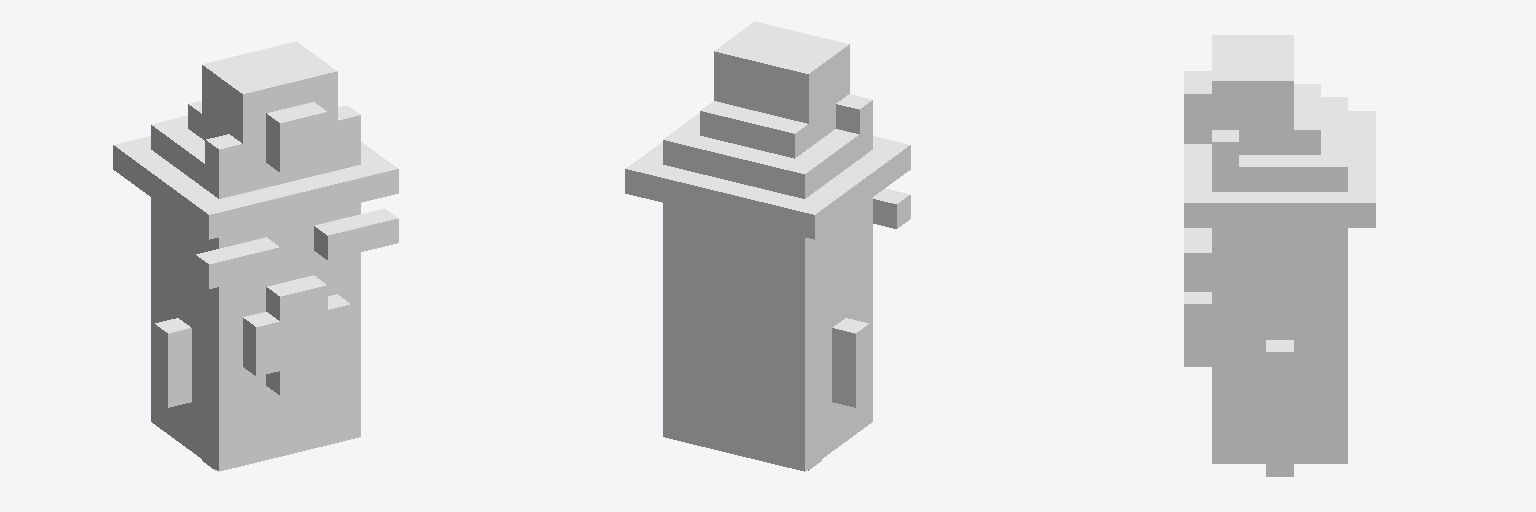
Rendered from OldMiner.obj.
3 renders of one model, left to right at view 1: azimuth 30°, elevation 25°; view 2: azimuth 150°, elevation 25°; view 3: azimuth 270°, elevation 25°, orthographic.
Bounding box in the file's own units: 8 × 16 × 7.